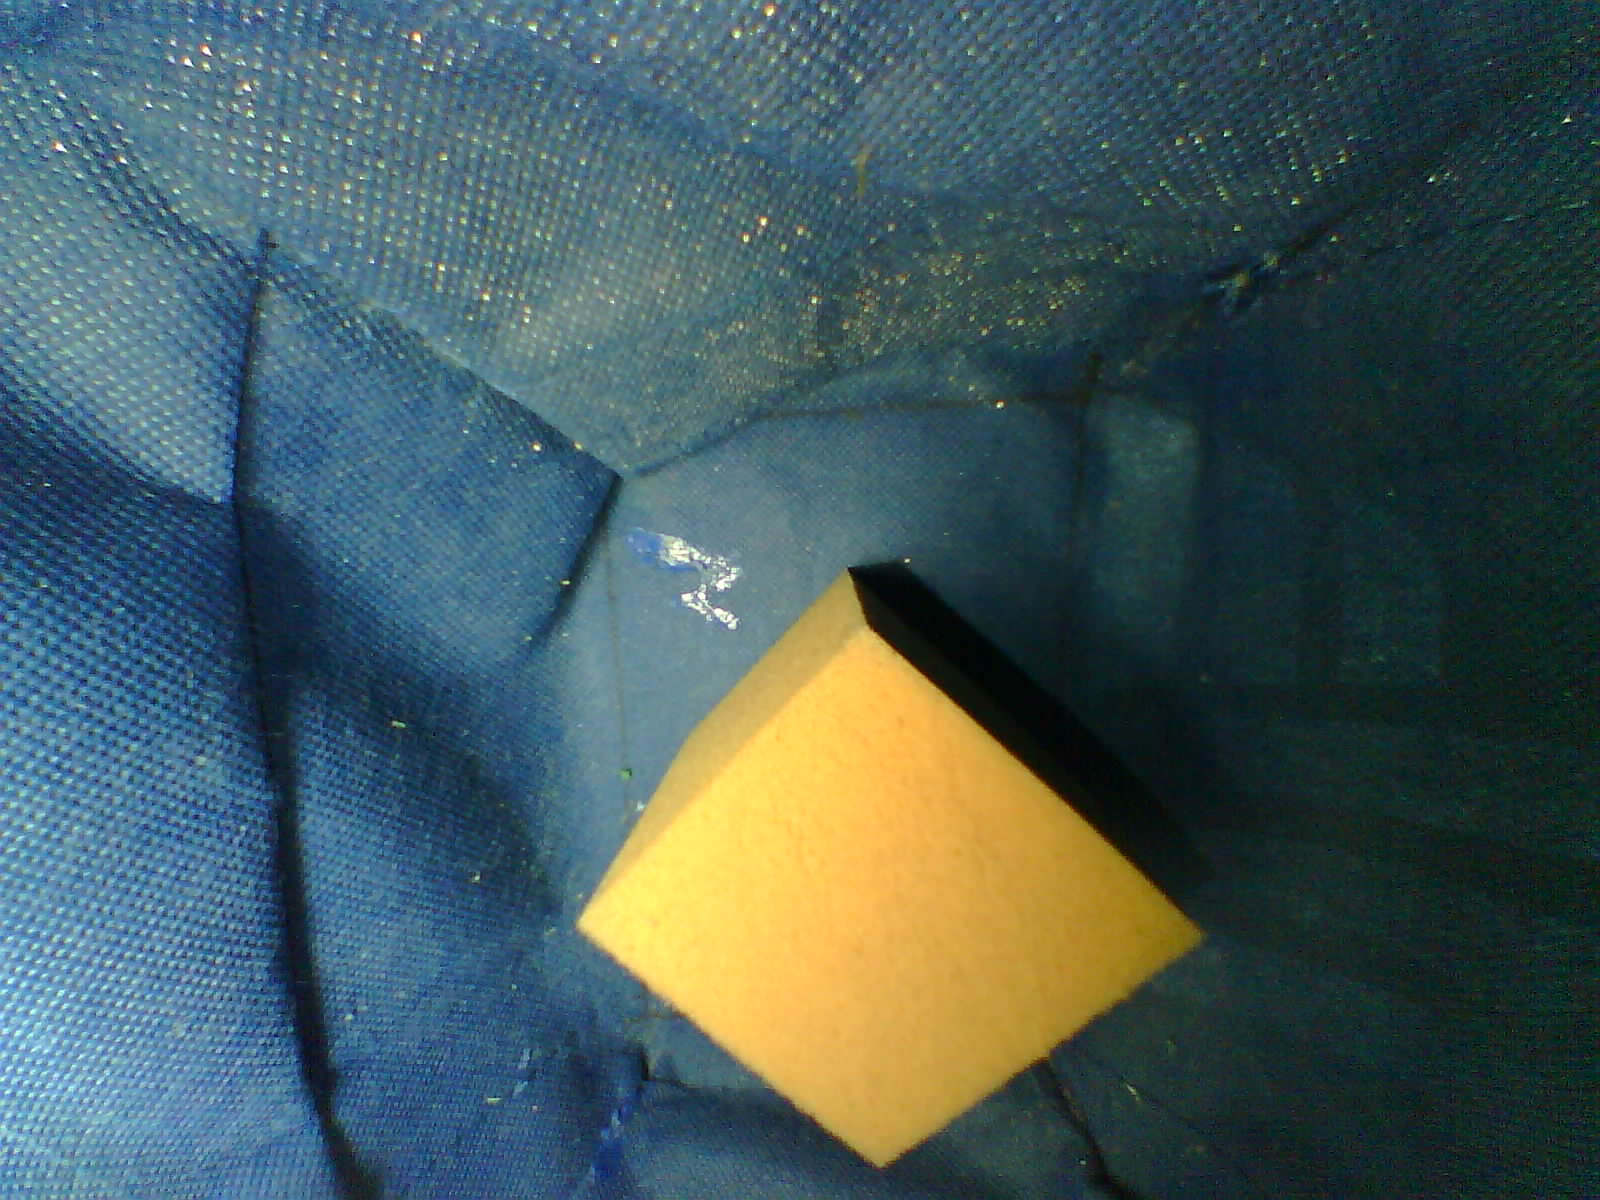cube-soft: (567, 556, 1237, 1187)
